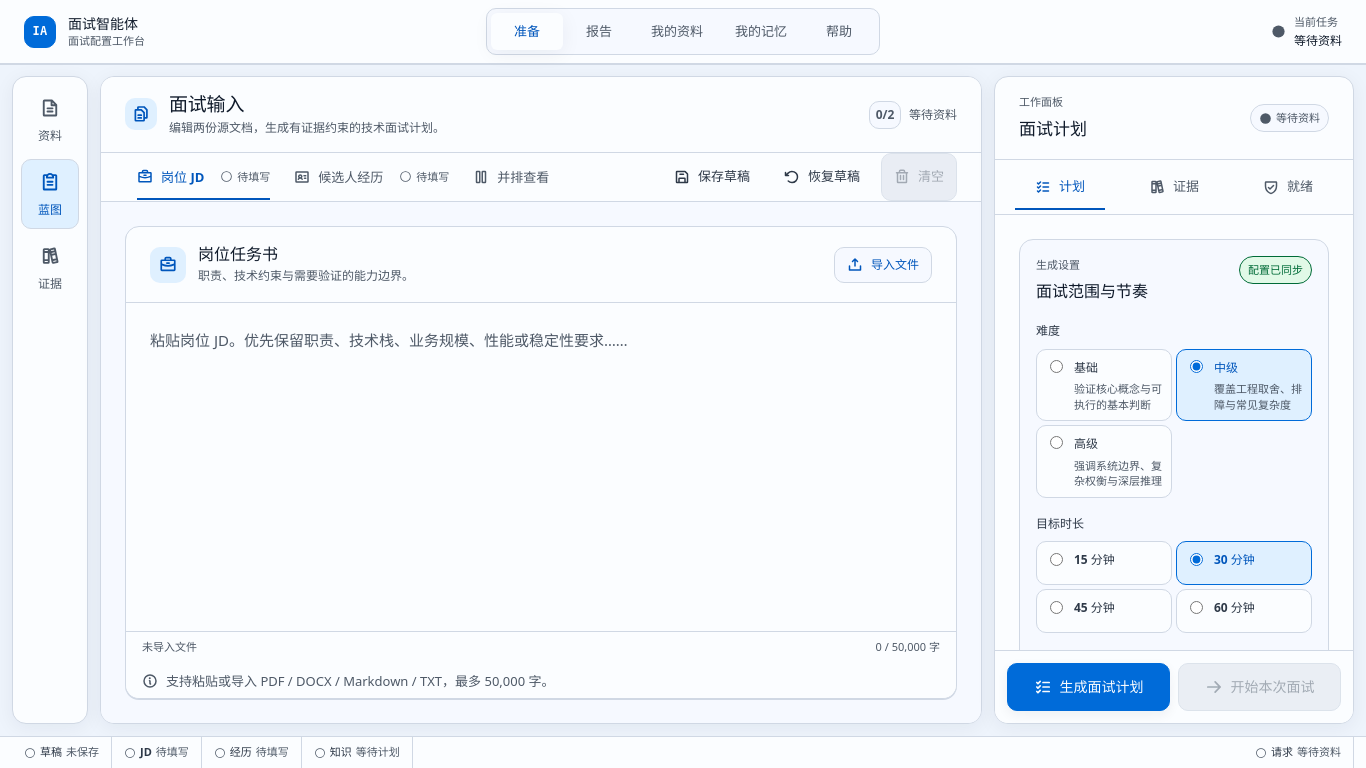
Test: StartPage editable plan workflow › projects Scope Start errors safely for HTTP 404
Type "Backend role" into the text box labelled "岗位 JD". click: (541, 467)
box: [126, 303, 956, 631]
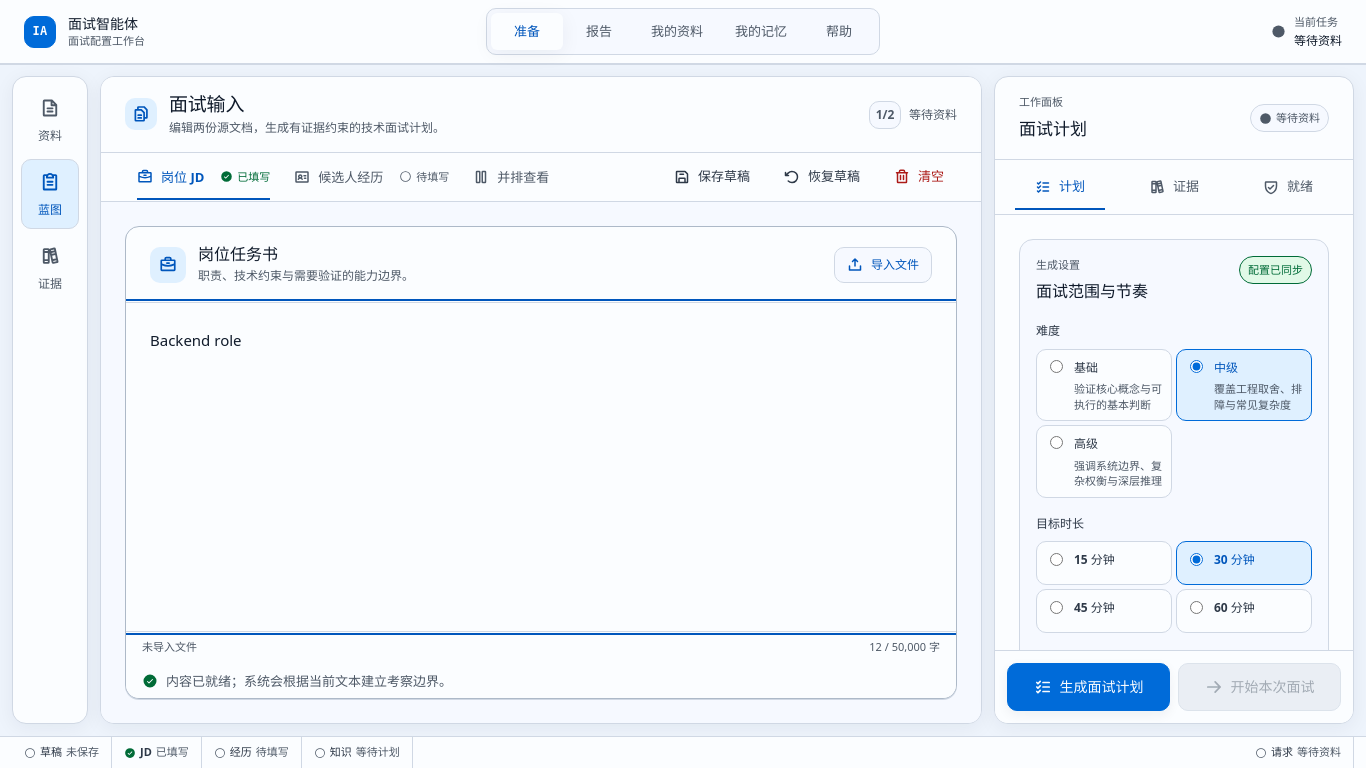
Click the tab "候选人经历 待填写". click: (372, 177)
box: [282, 154, 461, 200]
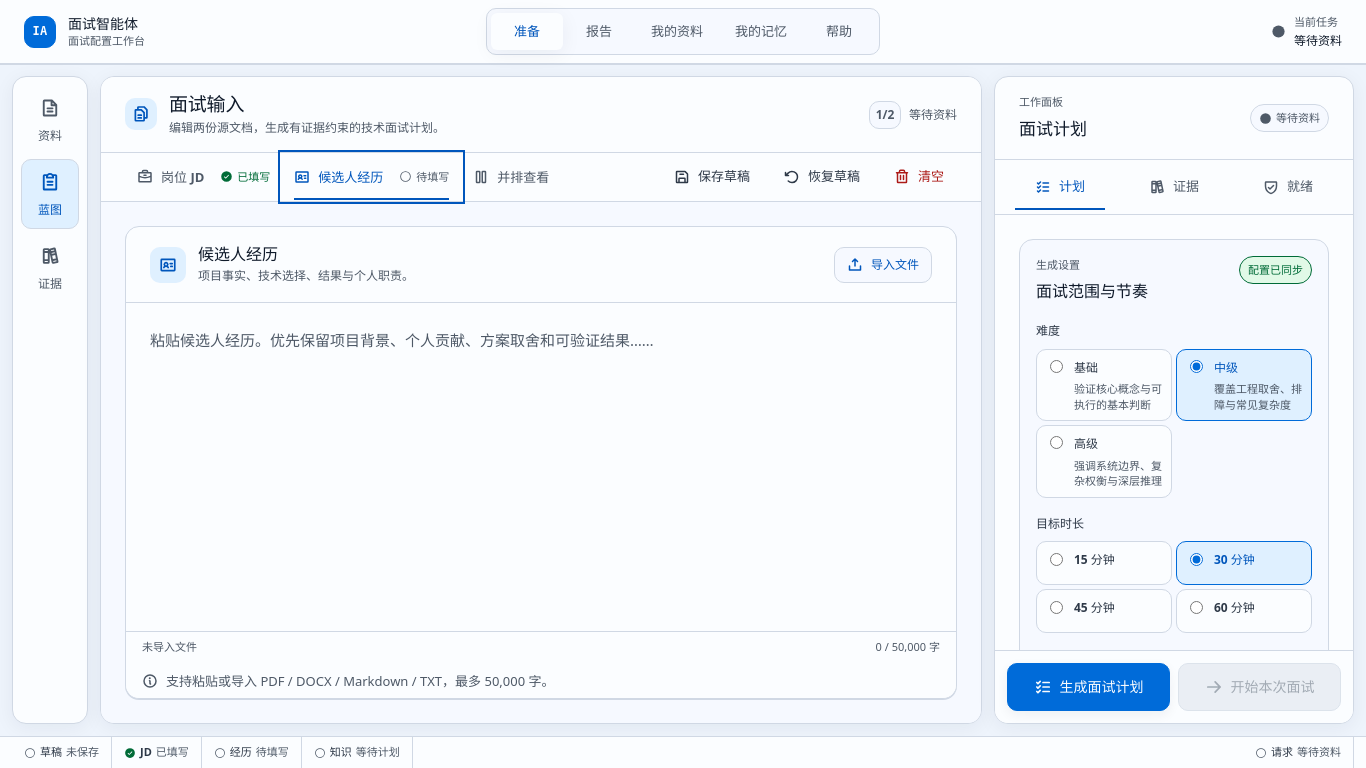
Type "Backend resume" into the text box named "简历内容". click: (541, 467)
box: [126, 303, 956, 631]
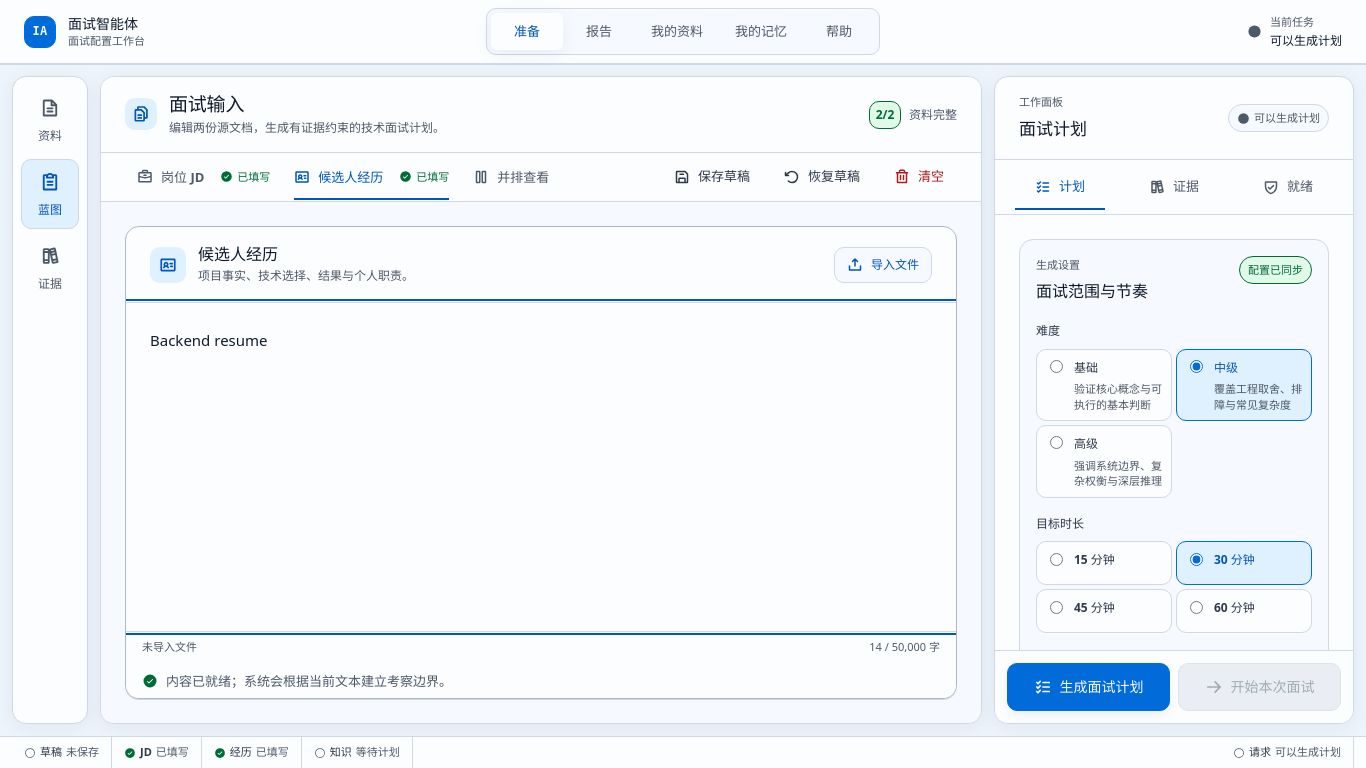
Click the button "生成面试计划". click: (1088, 687)
box: [1007, 663, 1170, 711]
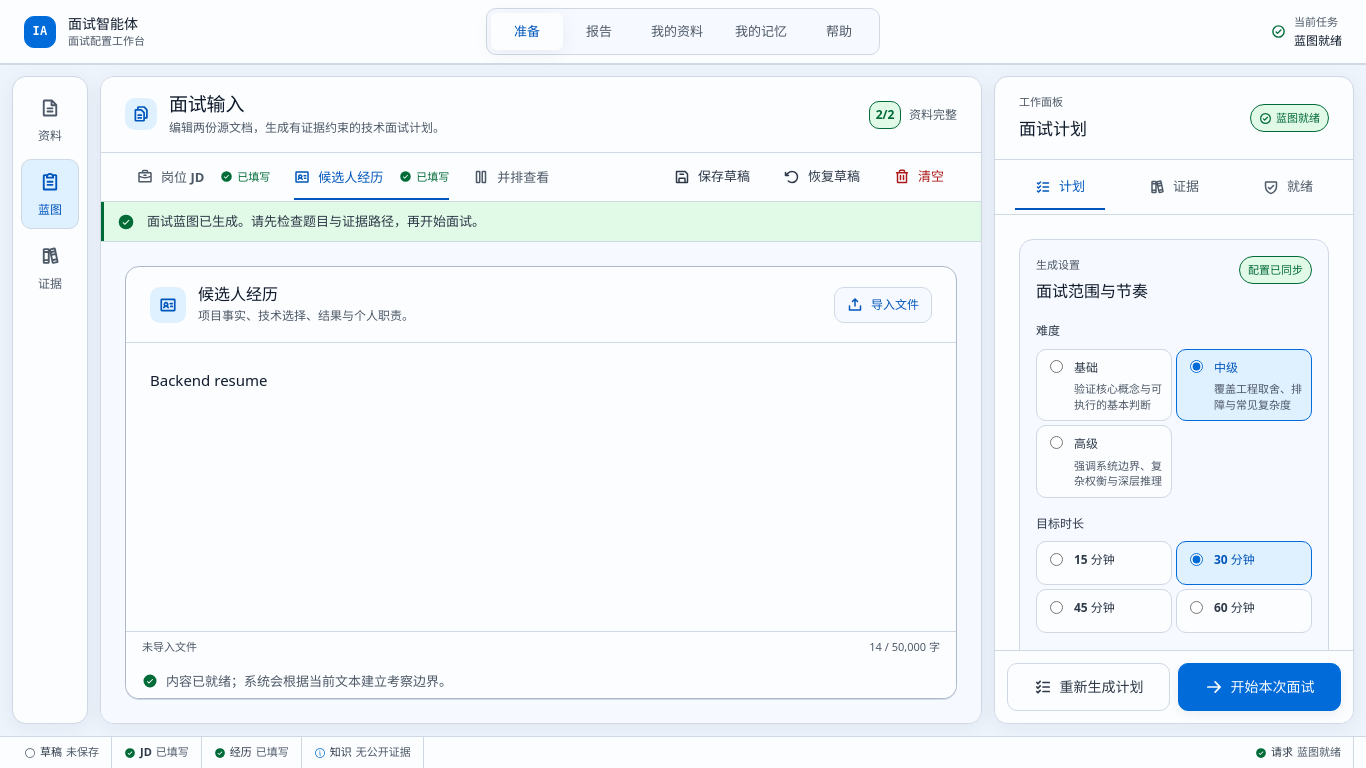
Click the button "开始本次面试". click: (1260, 687)
box: [1178, 663, 1341, 711]
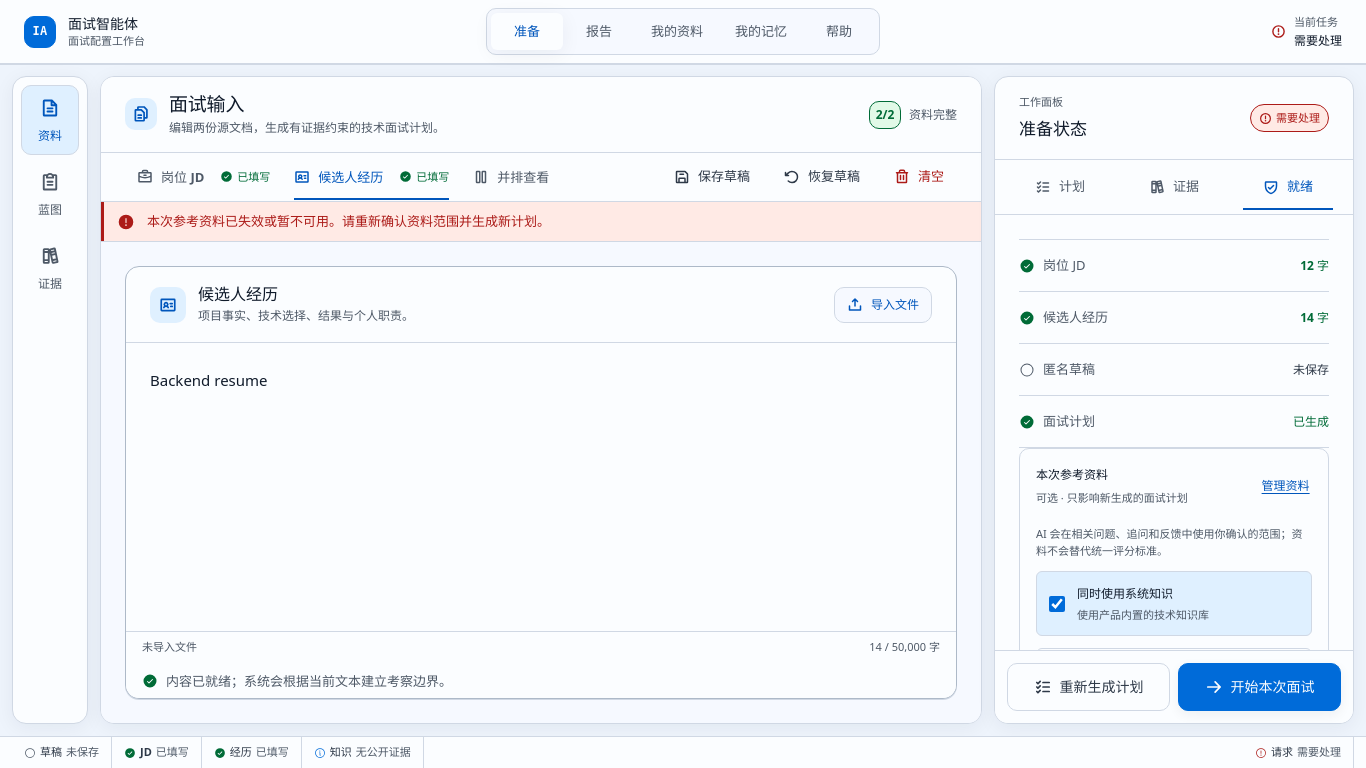
Expected: the text "本次参考资料已失效或暂不可用。请重新确认资料范围并生成新计划。" is shown, [147, 212, 550, 230]
